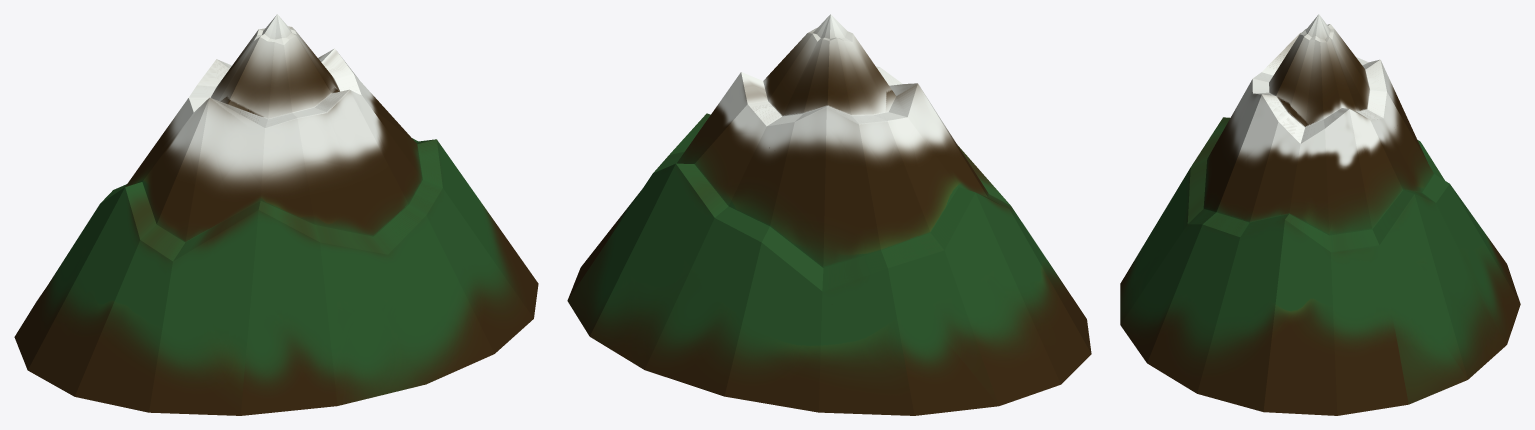
File: muntanyea_2.fbx
3 views of the same model, side by side, from view 1: azimuth 30°, elevation 25°; view 2: azimuth 150°, elevation 25°; view 3: azimuth 270°, elevation 25° (orthographic). The views are drawn at different scales.
Visible parts, largest first — view 1: Cone.001; view 2: Cone.001; view 3: Cone.001.
Part boxes in pixels (x1,y1,x2,y2): Cone.001: (14, 14, 538, 415); Cone.001: (567, 14, 1091, 415); Cone.001: (1120, 14, 1520, 415).
Bounding box in the file's own units: 992 × 602 × 752.
